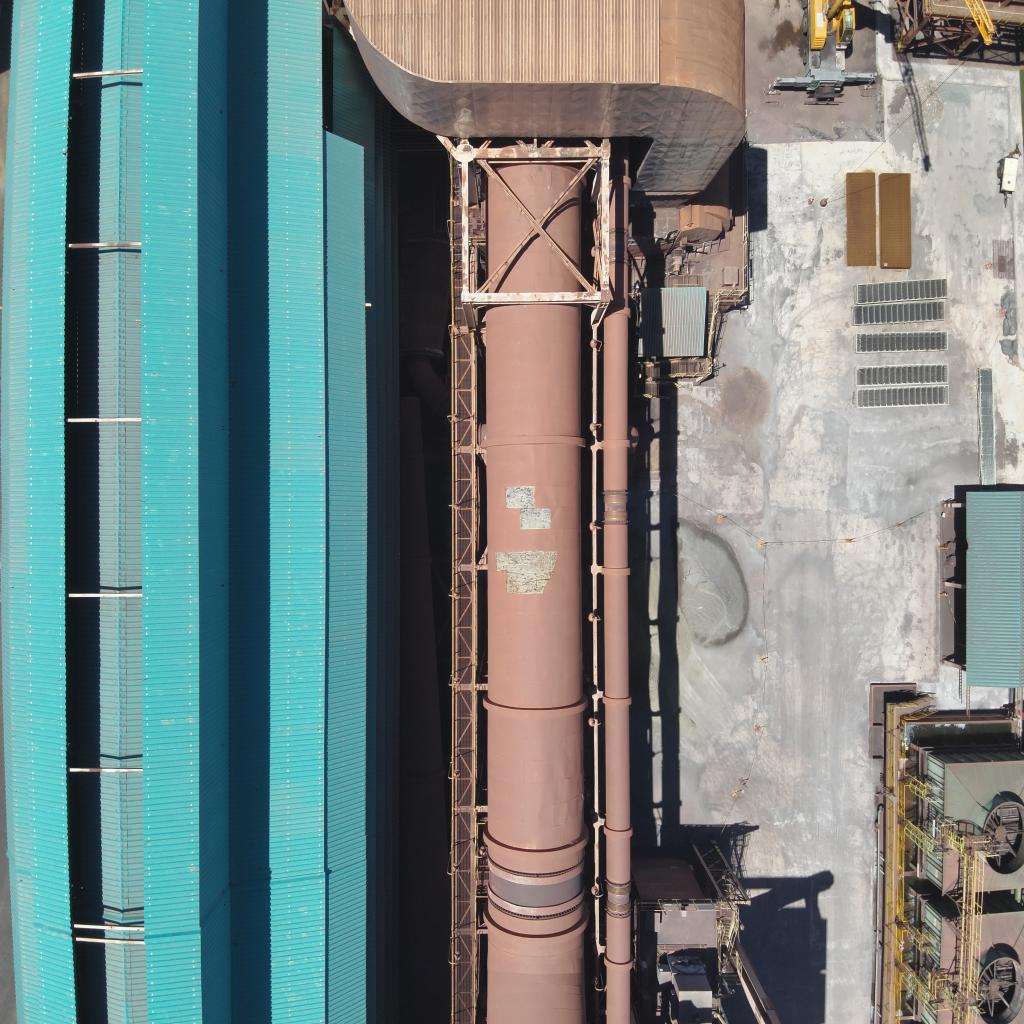Failures: (494, 549, 560, 597), (503, 482, 553, 534), (626, 222, 679, 266)
